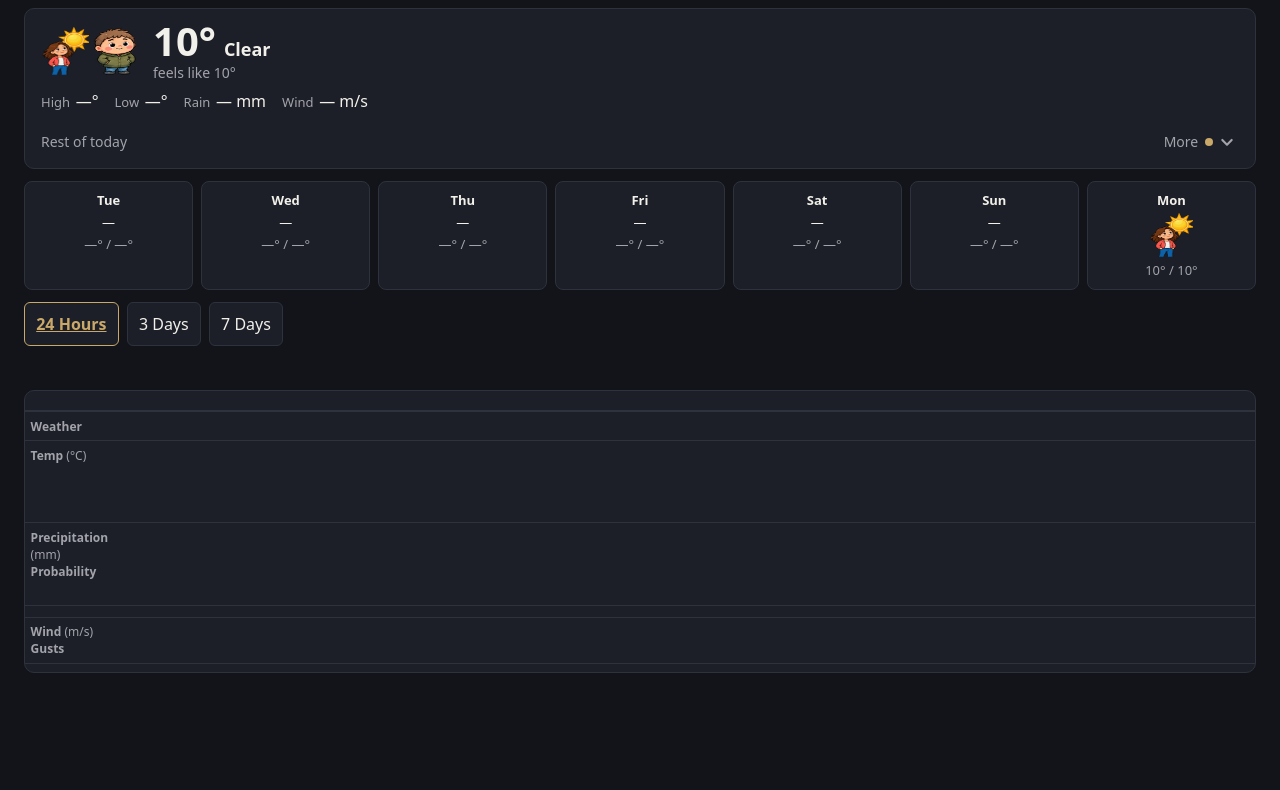
Test case: Today summary card (018-dashboard-visual-redesign, US4) › shows an informational warning's title only by default, revealing its description on click (048-split-informational-smhi, 052-collapse-informational-warnings)
The image size is (1280, 790).
Click the button "More".
click(1195, 142)  # box [1152,120,1239,164]
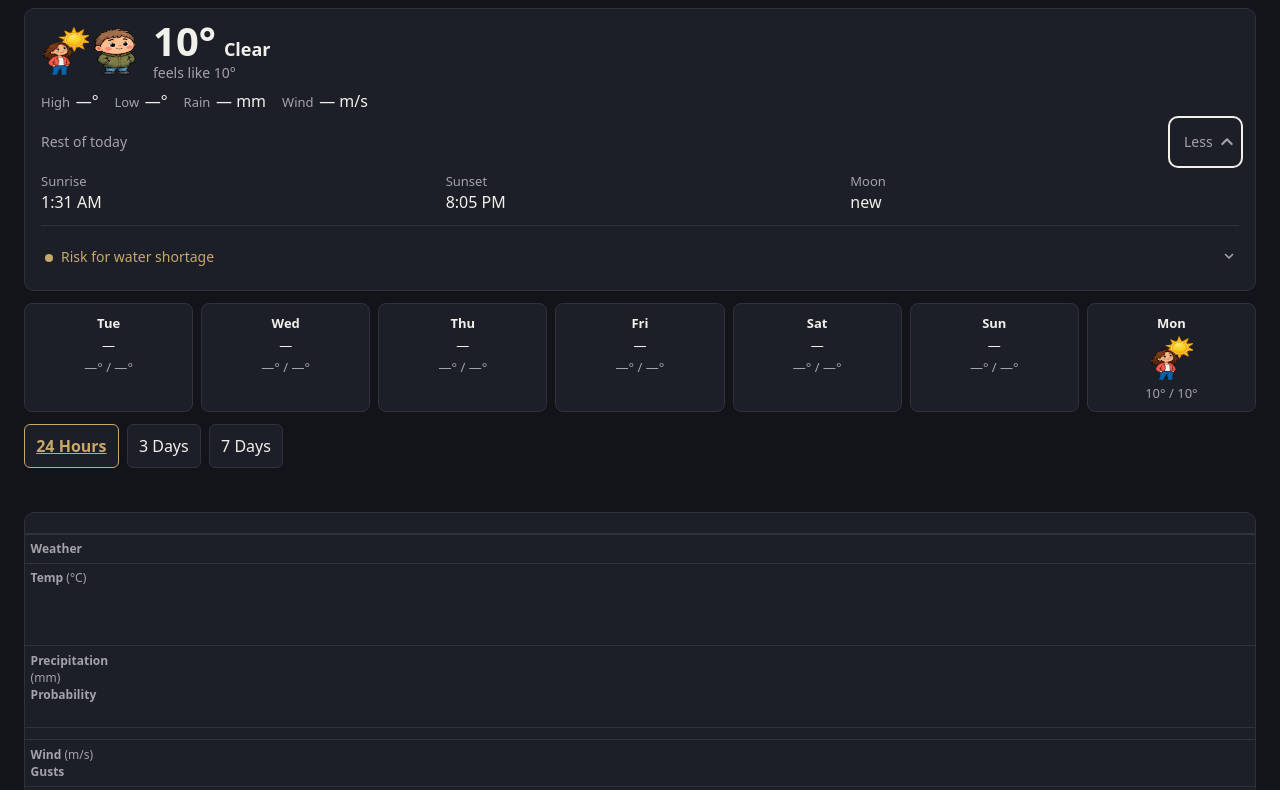
Expected: the element "today" does not show "Water levels are low.", [24,8,1256,291]
Expected: the element "today" shows "Risk for water shortage"
Click the button "Risk for water shortage".
click(138, 256)  # box [41,234,1239,278]
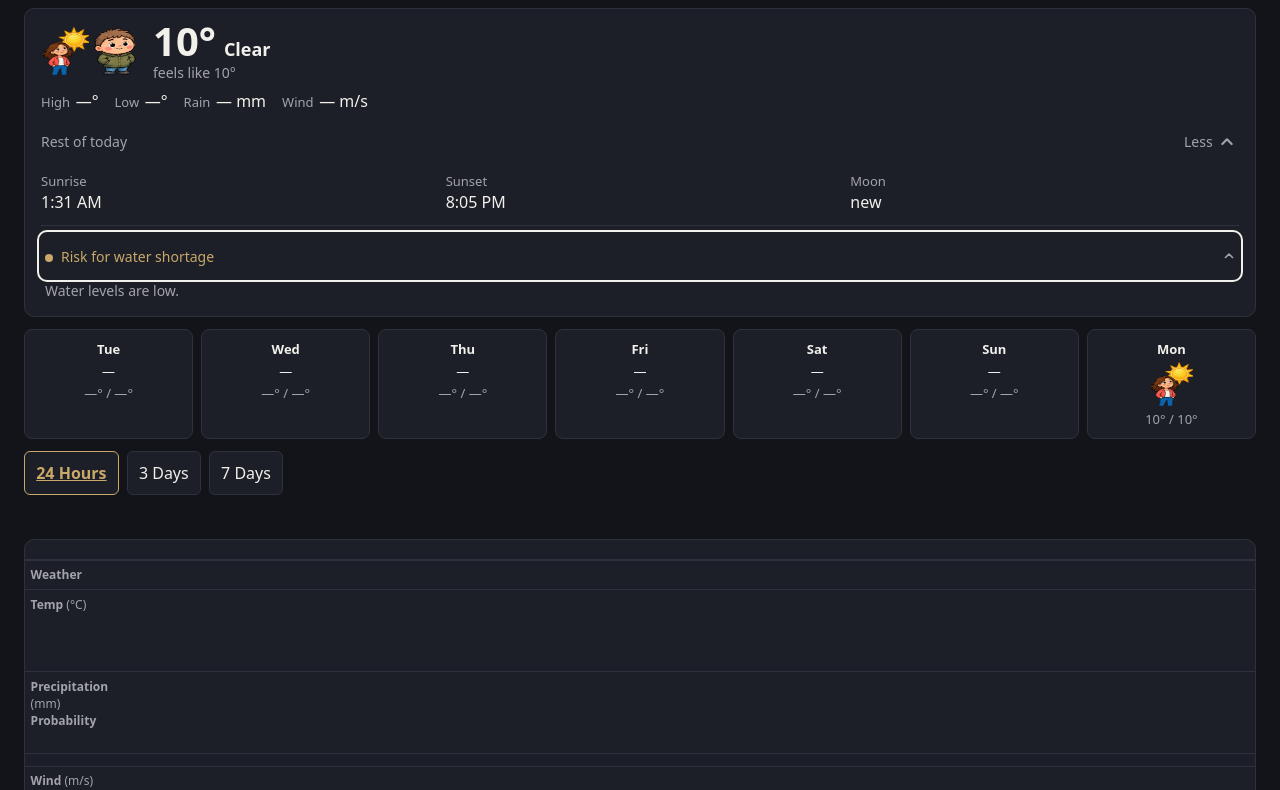
Expected: the element "today" shows "Water levels are low.", [45,281,179,300]
Expected: the button "Risk for water shortage" is expanded
Click the button "Risk for water shortage".
click(138, 256)  # box [41,234,1239,278]
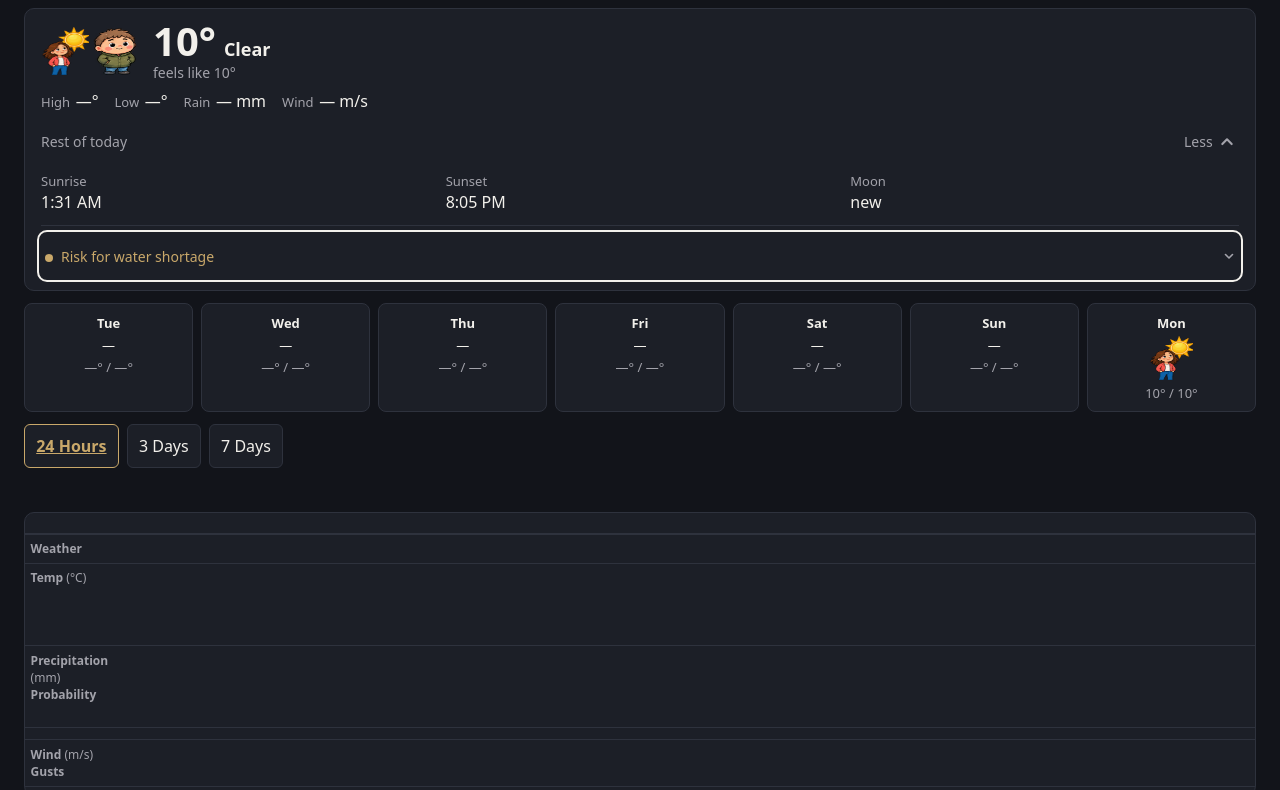
Expected: the element "today" no longer shows "Water levels are low.", [24,8,1256,291]
